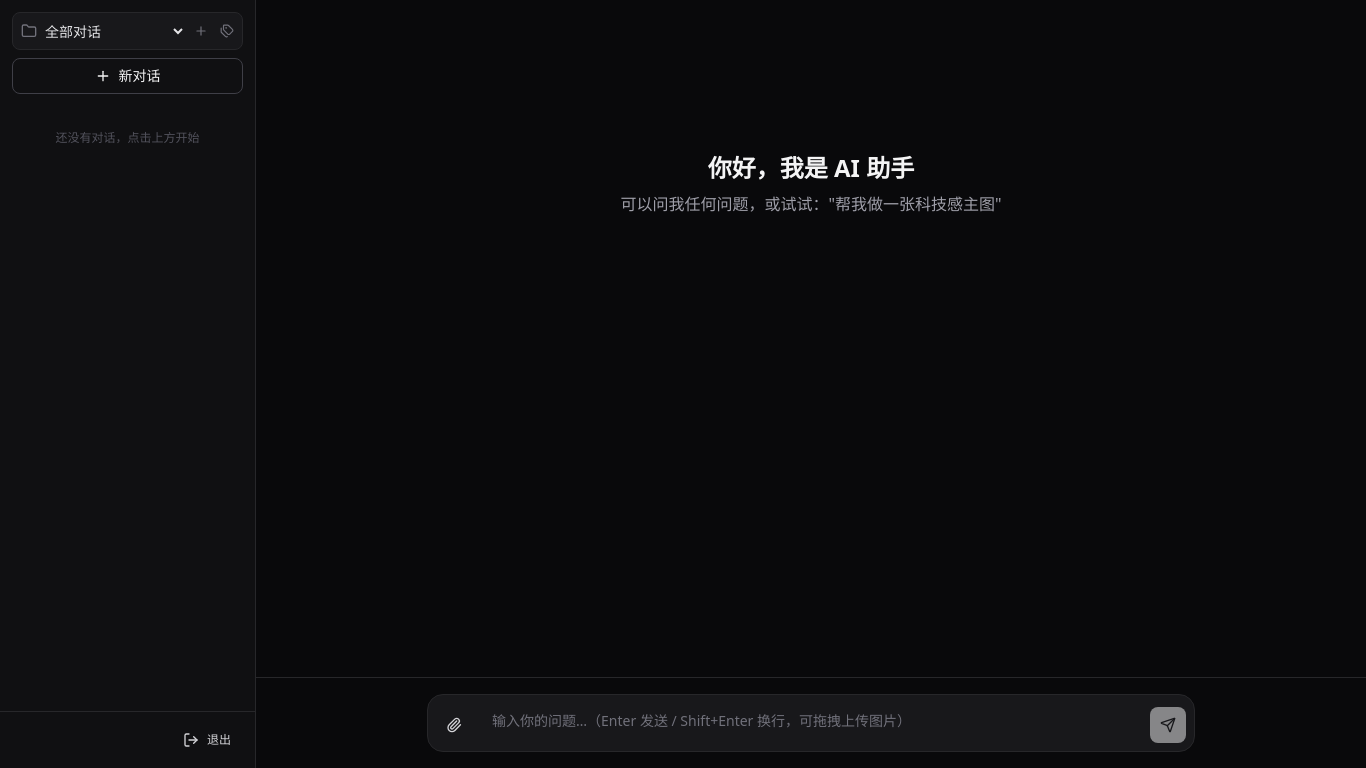
it: ChatWorkspace 消息流（SSE 解析 → 渲染） › error 帧：顶部展示错误文案且气泡标记失败（带错误码与重试按钮）
Expected: the button "新对话" is shown, [12, 58, 243, 94]
Type "你好" into the text box with placeholder "输入你的问题…（Enter 发送 / Shift+Enter 换行，可拖拽上传图片）" at (811, 723), box [480, 703, 1142, 743]
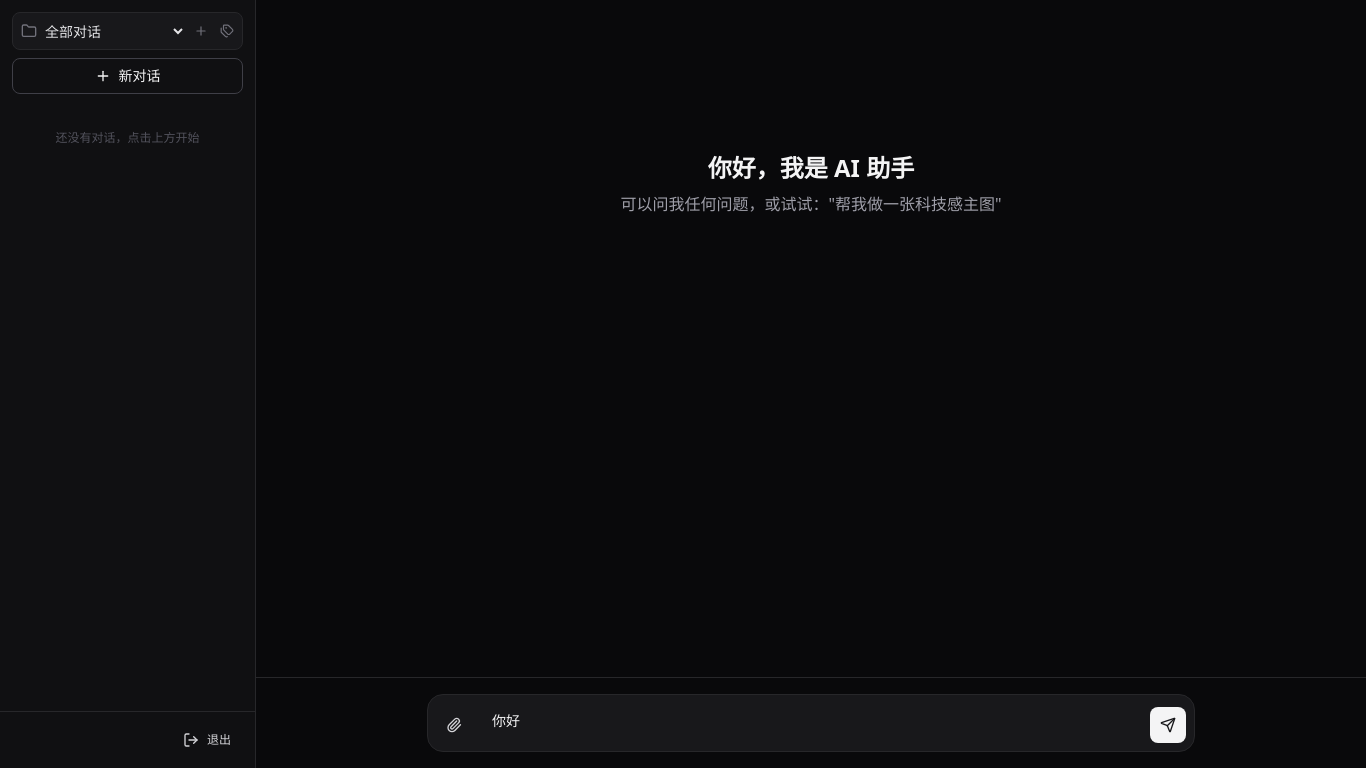
Click the button titled "发送" at (1168, 725), box [1150, 707, 1186, 743]
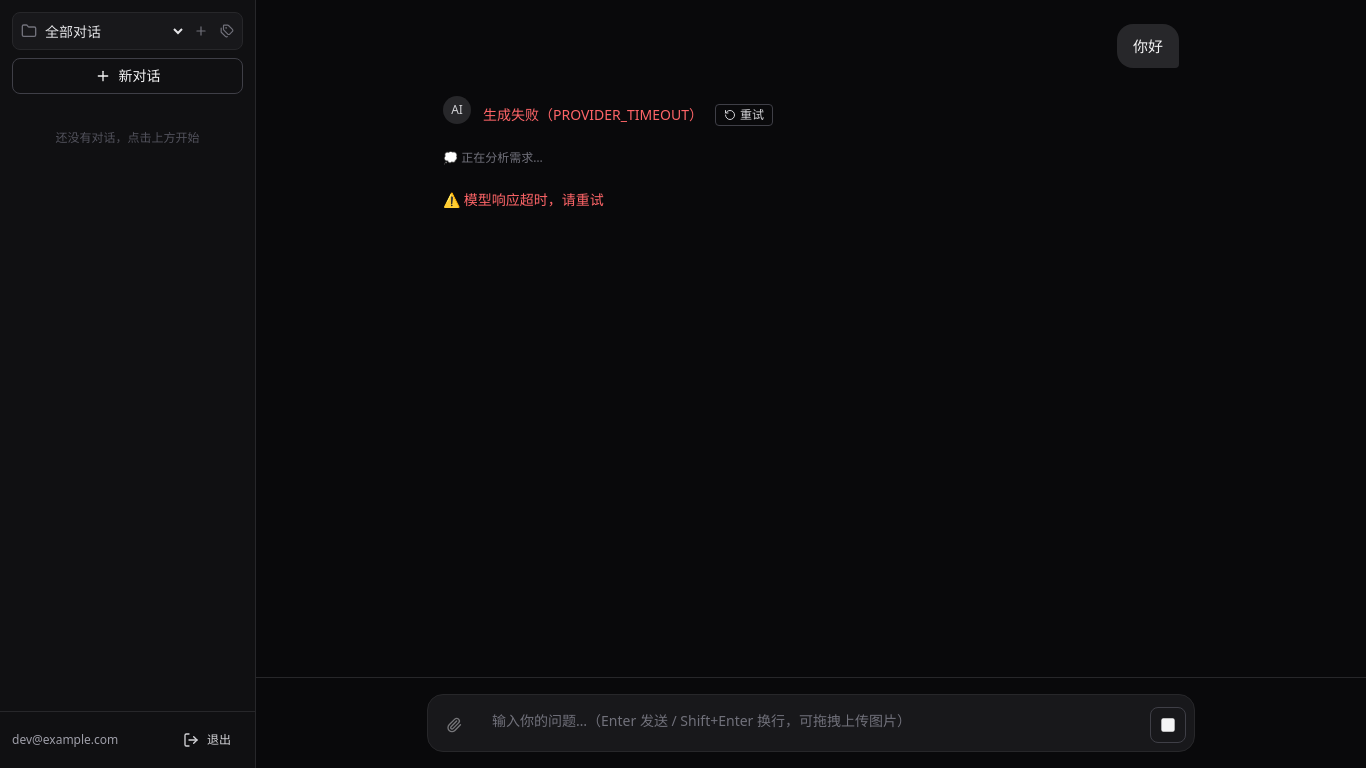
Now the text "⚠ 模型响应超时，请重试" is shown, box [443, 190, 604, 209]
Now the text "生成失败（PROVIDER_TIMEOUT）" is shown, box [483, 105, 703, 125]
Now the button "重试" is shown, box [715, 104, 773, 126]
